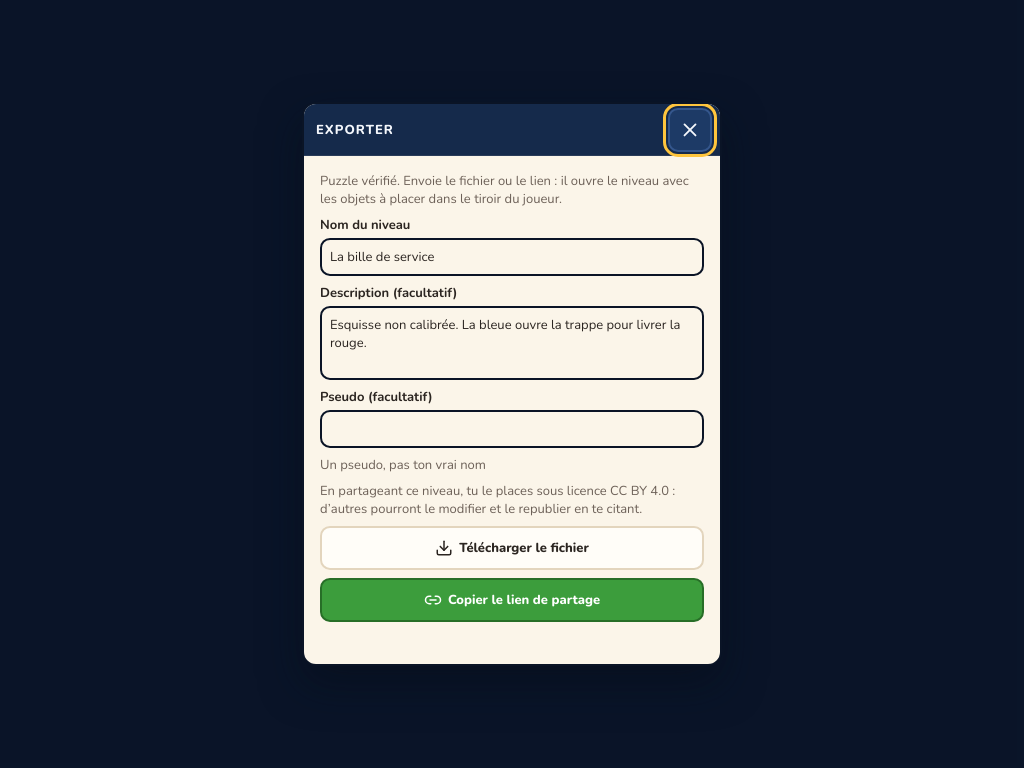
titre, pseudo et licence dans la boîte d’export (M14, ADR 0016) › met le pseudo saisi, sans ses espaces de bord, dans le fichier et dans le lien
The width and height of the screenshot is (1024, 768).
Type "  Lili  " into the field labelled "Pseudo (facultatif)" at (512, 429), box [320,410,704,448]
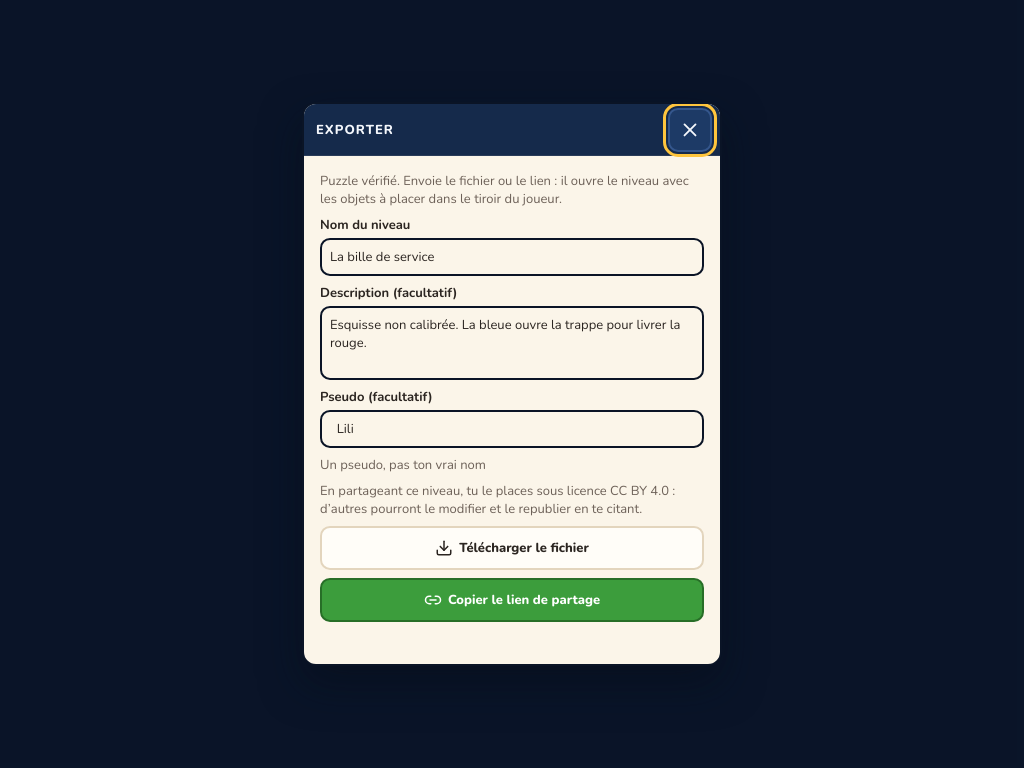
Click the button "Télécharger le fichier" at (512, 548), box [320,526,704,570]
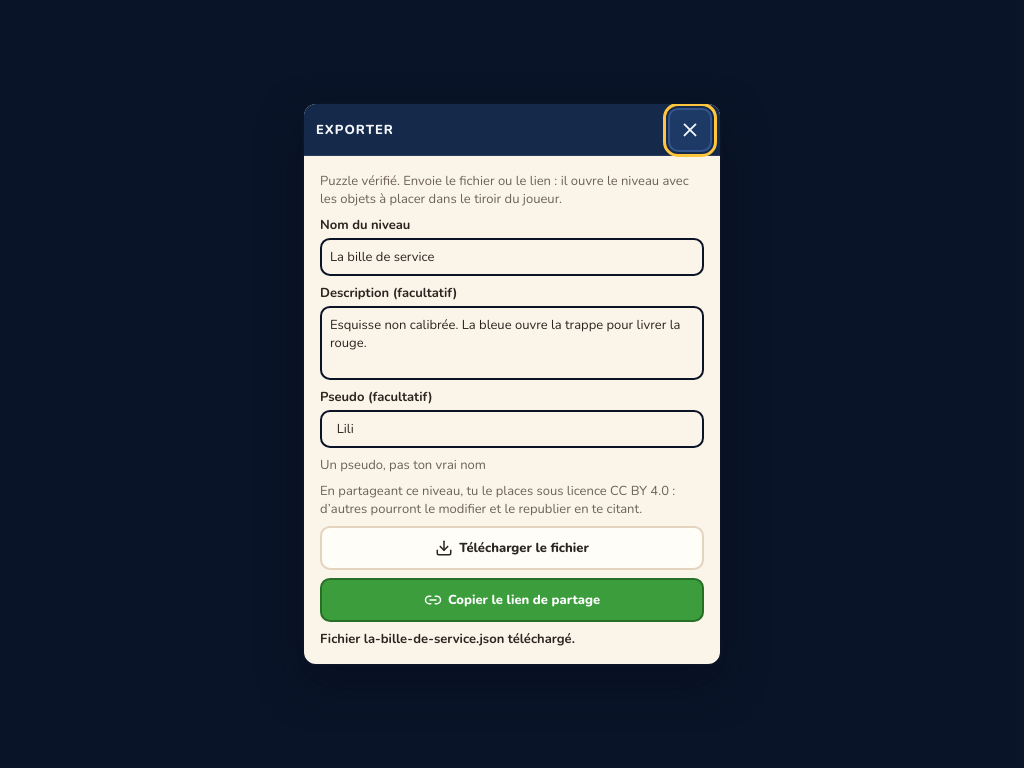
Click the button "Copier le lien de partage" at (512, 600), box [320,578,704,622]
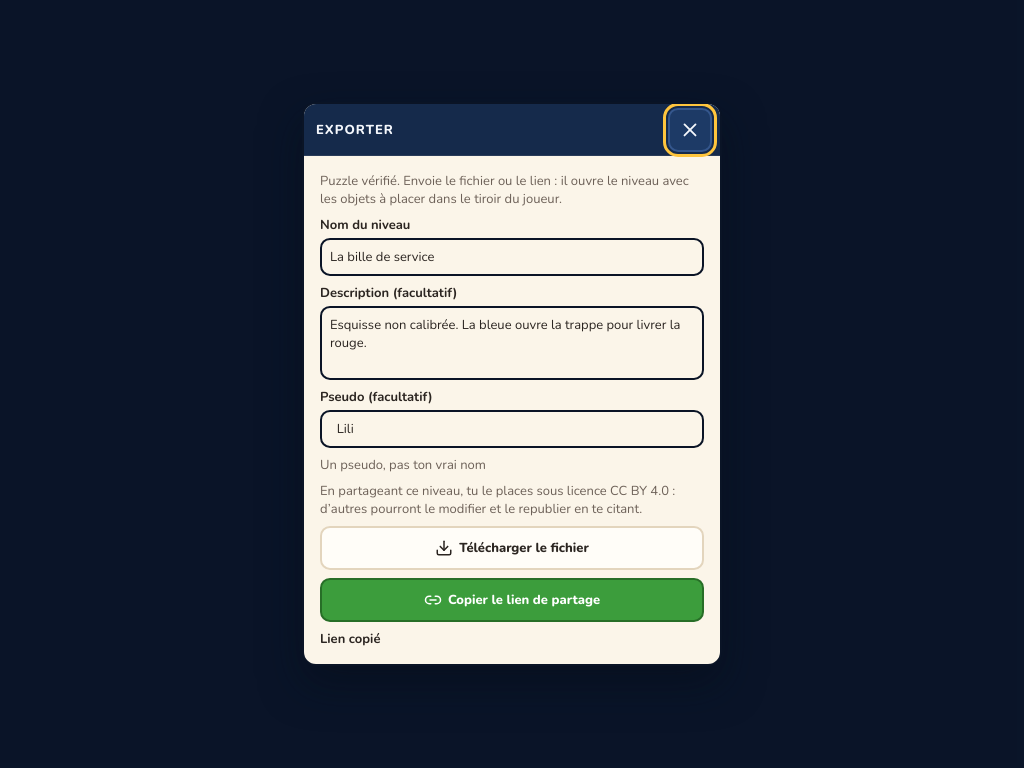
Expected: the text "Lien copié" is shown, [320,630,380,648]
